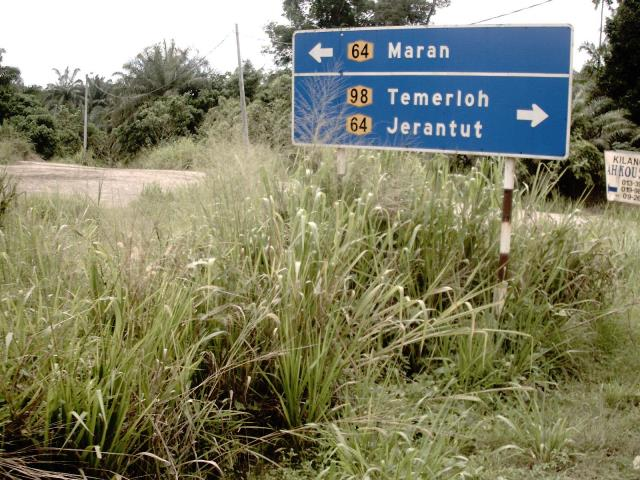traffic_sign: (271, 10, 587, 176)
